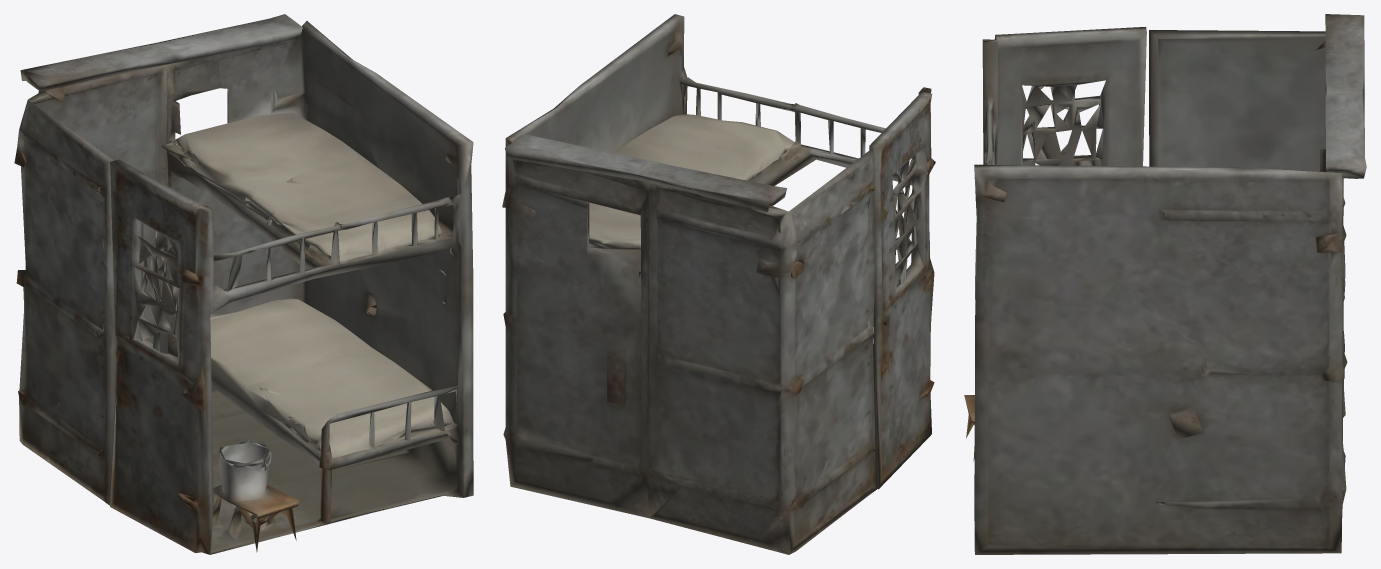
File: prison_cell_set.glb
3 views of the same model, side by side, from view 1: azimuth 30°, elevation 25°; view 2: azimuth 150°, elevation 25°; view 3: azimuth 270°, elevation 25° (orthographic). The views are drawn at different scales.
Visible parts, largest first — view 1: tripo_node_34b6a5f2-6ac2-41c8-ba61-2d51090b8409; view 2: tripo_node_34b6a5f2-6ac2-41c8-ba61-2d51090b8409; view 3: tripo_node_34b6a5f2-6ac2-41c8-ba61-2d51090b8409.
Part boxes in pixels (x1,y1,x2,y2): tripo_node_34b6a5f2-6ac2-41c8-ba61-2d51090b8409: [14, 14, 473, 554]; tripo_node_34b6a5f2-6ac2-41c8-ba61-2d51090b8409: [502, 14, 935, 554]; tripo_node_34b6a5f2-6ac2-41c8-ba61-2d51090b8409: [964, 14, 1366, 554].
Size of the model in its own units: 3.03 by 3.48 by 3.2.
1 material, 1 textured.
